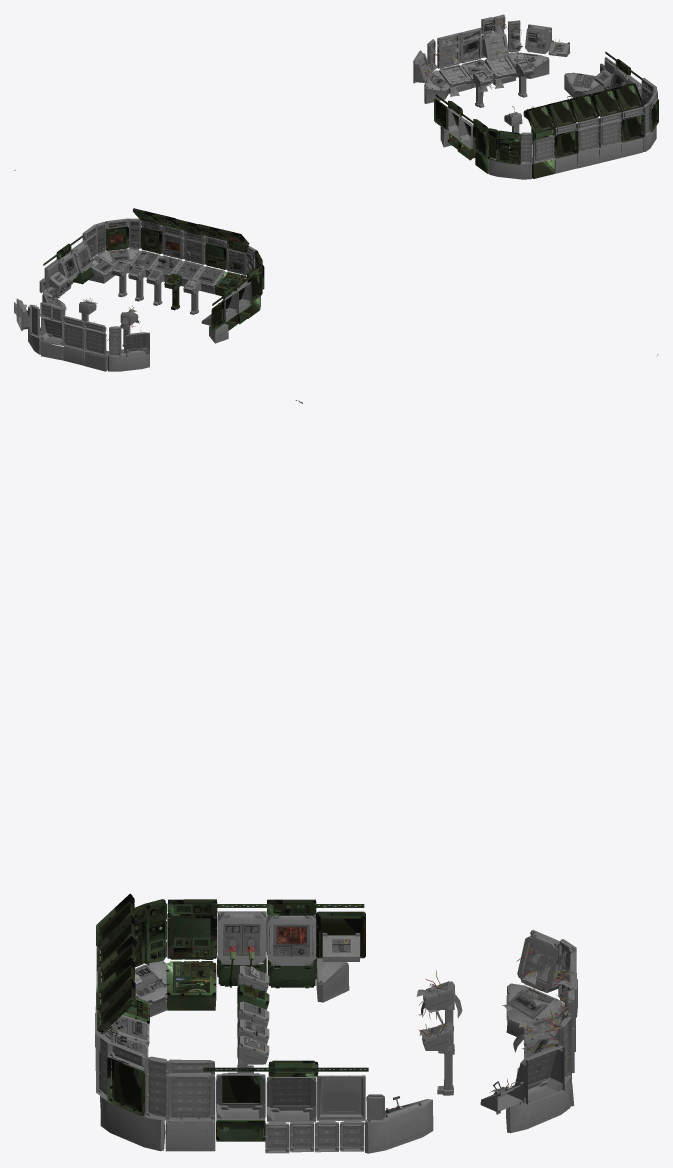
The model's file is switchboard power.fbx.
3 renders of one model, top to bottom at view 1: azimuth 30°, elevation 25°; view 2: azimuth 150°, elevation 25°; view 3: azimuth 270°, elevation 25°, orthographic. The views are drawn at different scales.
Parts seen in each view (by area): view 1: 3-_switchboard_2.001, 1-_switchboard_2, 2-_remote_ï¿½ï¿; view 2: 1-_switchboard_2, 3-_switchboard_2.001, 2-_remote_ï¿½ï¿; view 3: 1-_switchboard_2, 2-_remote_ï¿½ï¿, 3-_switchboard_2.001.
Part boxes in pixels (left/top/right/bottom): 3-_switchboard_2.001: left=14, top=14, right=570, bottom=170; 1-_switchboard_2: left=438, top=57, right=657, bottom=179; 2-_remote_ï¿½ï¿: left=434, top=51, right=658, bottom=178; 1-_switchboard_2: left=39, top=218, right=260, bottom=343; 3-_switchboard_2.001: left=14, top=298, right=657, bottom=371; 2-_remote_ï¿½ï¿: left=43, top=208, right=264, bottom=331; 1-_switchboard_2: left=95, top=911, right=433, bottom=1153; 2-_remote_ï¿½ï¿: left=96, top=893, right=368, bottom=1141; 3-_switchboard_2.001: left=295, top=400, right=577, bottom=1133.
Bounding box in the file's own units: 1874 × 270 × 656.
